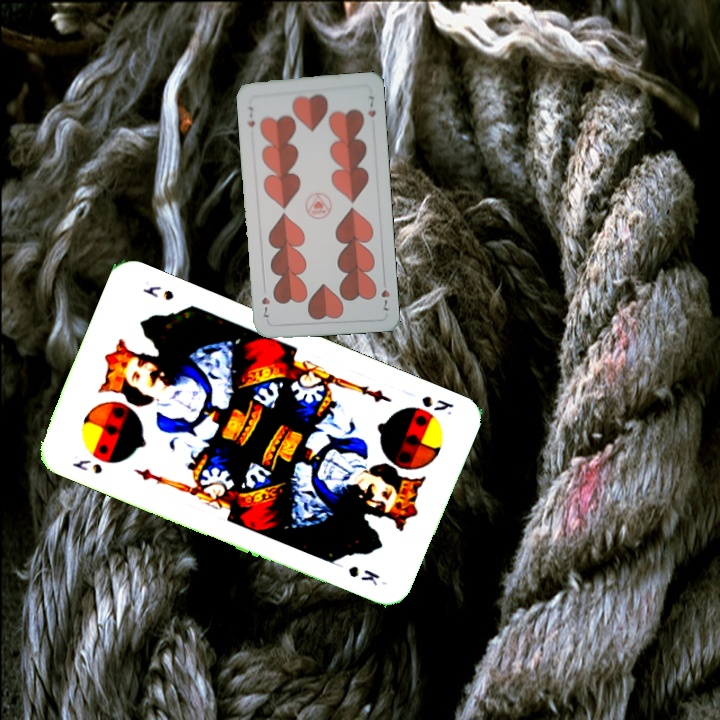H7: (377, 275, 392, 314), (243, 103, 257, 130)
SK: (418, 391, 457, 418), (68, 455, 105, 477)
